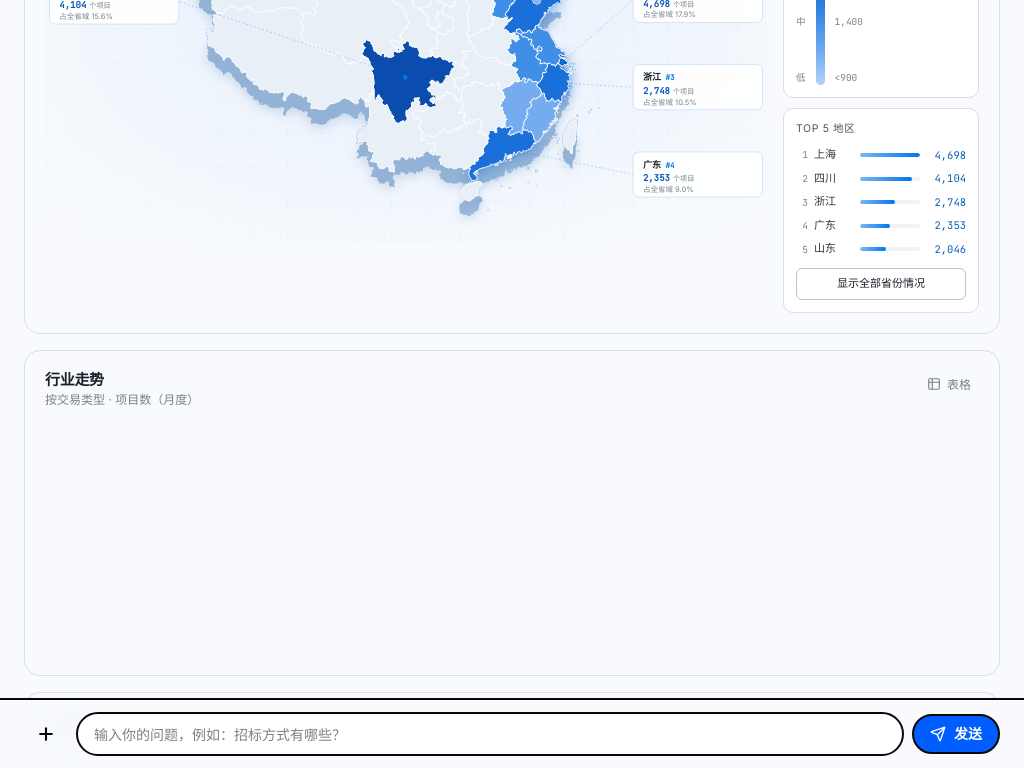
商机看板页 › 行业走势：三条交易类型序列（用表格孪生验，jsdom 不渲染 SVG 图例）
(page scrolled)
# 切到表格视图：列头应恰好是三条序列名
Click the button "表格". click: (949, 384)
box: [919,371,979,398]
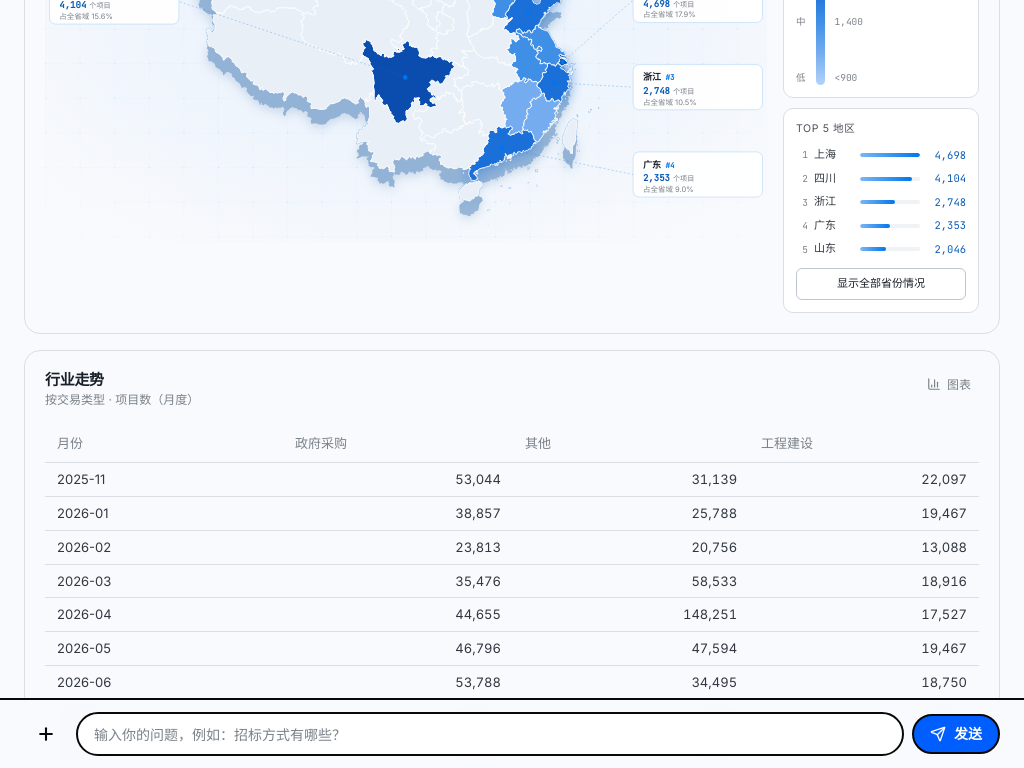
expect the column heading "政府采购" is shown: met, box [283,425,513,463]
expect the column heading "其他" is shown: met, box [513,425,749,463]
expect the column heading "工程建设" is shown: met, box [749,425,979,463]
